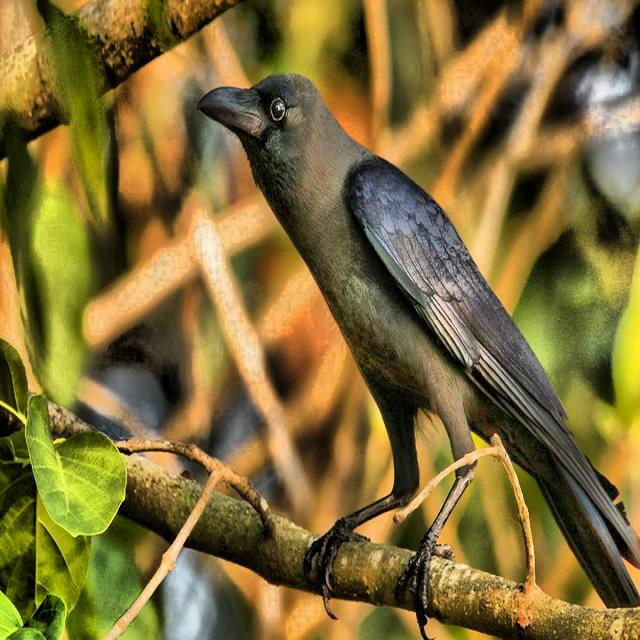crow: (178, 62, 640, 640)
